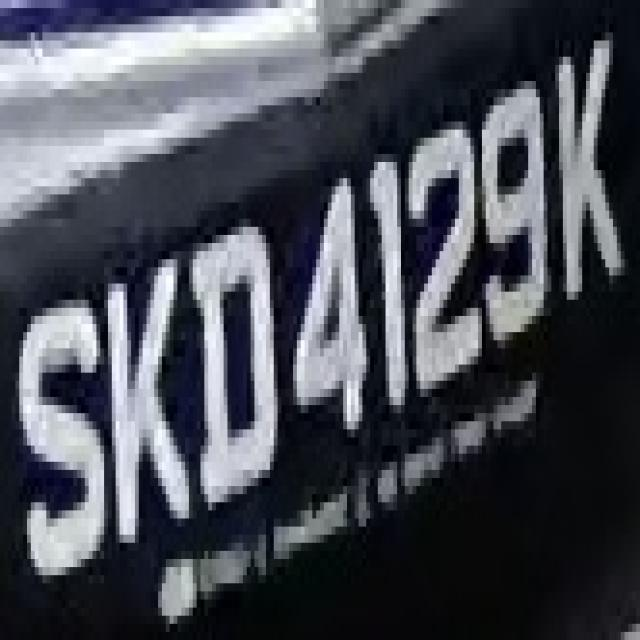1: (363, 146, 424, 454)
2: (397, 113, 486, 405)
4: (278, 178, 370, 470)
9: (471, 57, 552, 380)
D: (178, 235, 282, 510)
K: (100, 227, 197, 551), (548, 32, 624, 324)
S: (19, 276, 104, 592)
